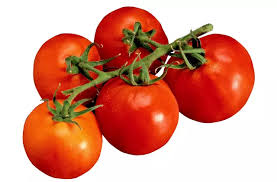tomate: (30, 17, 254, 170)
